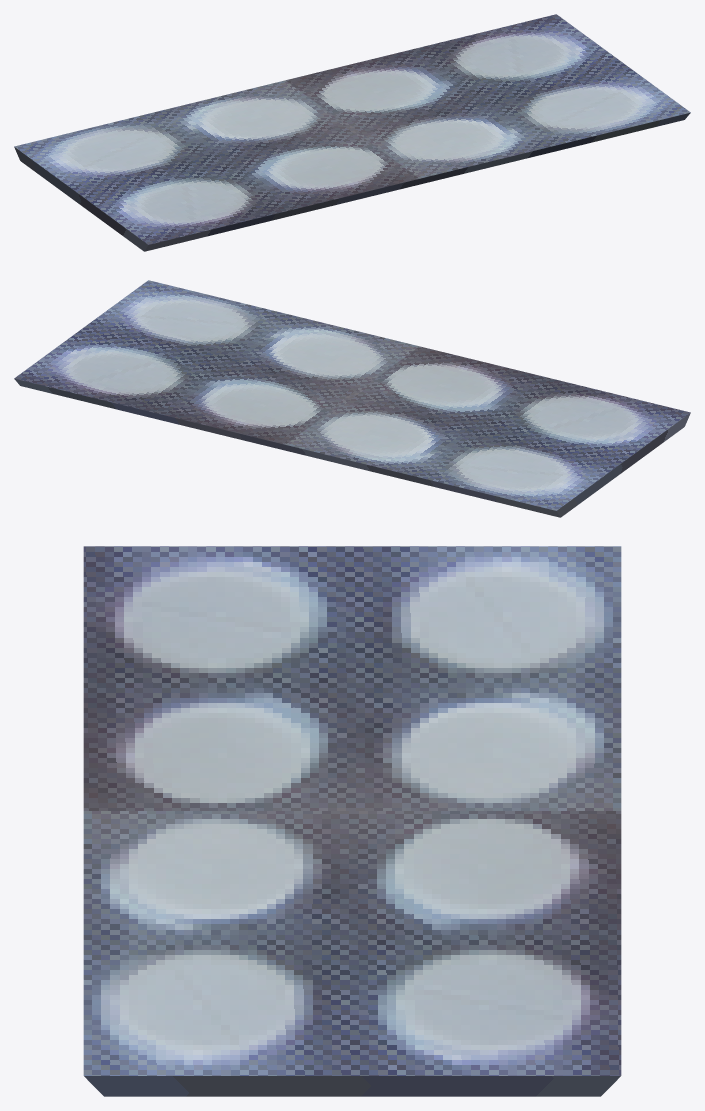
Rendered from pills_2.glb.
The picture shows the model from 3 angles, top to bottom: view 1: azimuth 30°, elevation 25°; view 2: azimuth 150°, elevation 25°; view 3: azimuth 270°, elevation 25°; orthographic projection. The views are drawn at different scales.
Parts seen in each view (by area): view 1: Pills_2; view 2: Pills_2; view 3: Pills_2.
Boxes of the visible parts, box(x1,y1,x2,y2) form: Pills_2: box(14, 14, 690, 251); Pills_2: box(14, 280, 690, 517); Pills_2: box(83, 546, 621, 1096).
Bounding box in the file's own units: 0.2905 × 0.00557 × 0.1247.
1 material, 1 textured.
